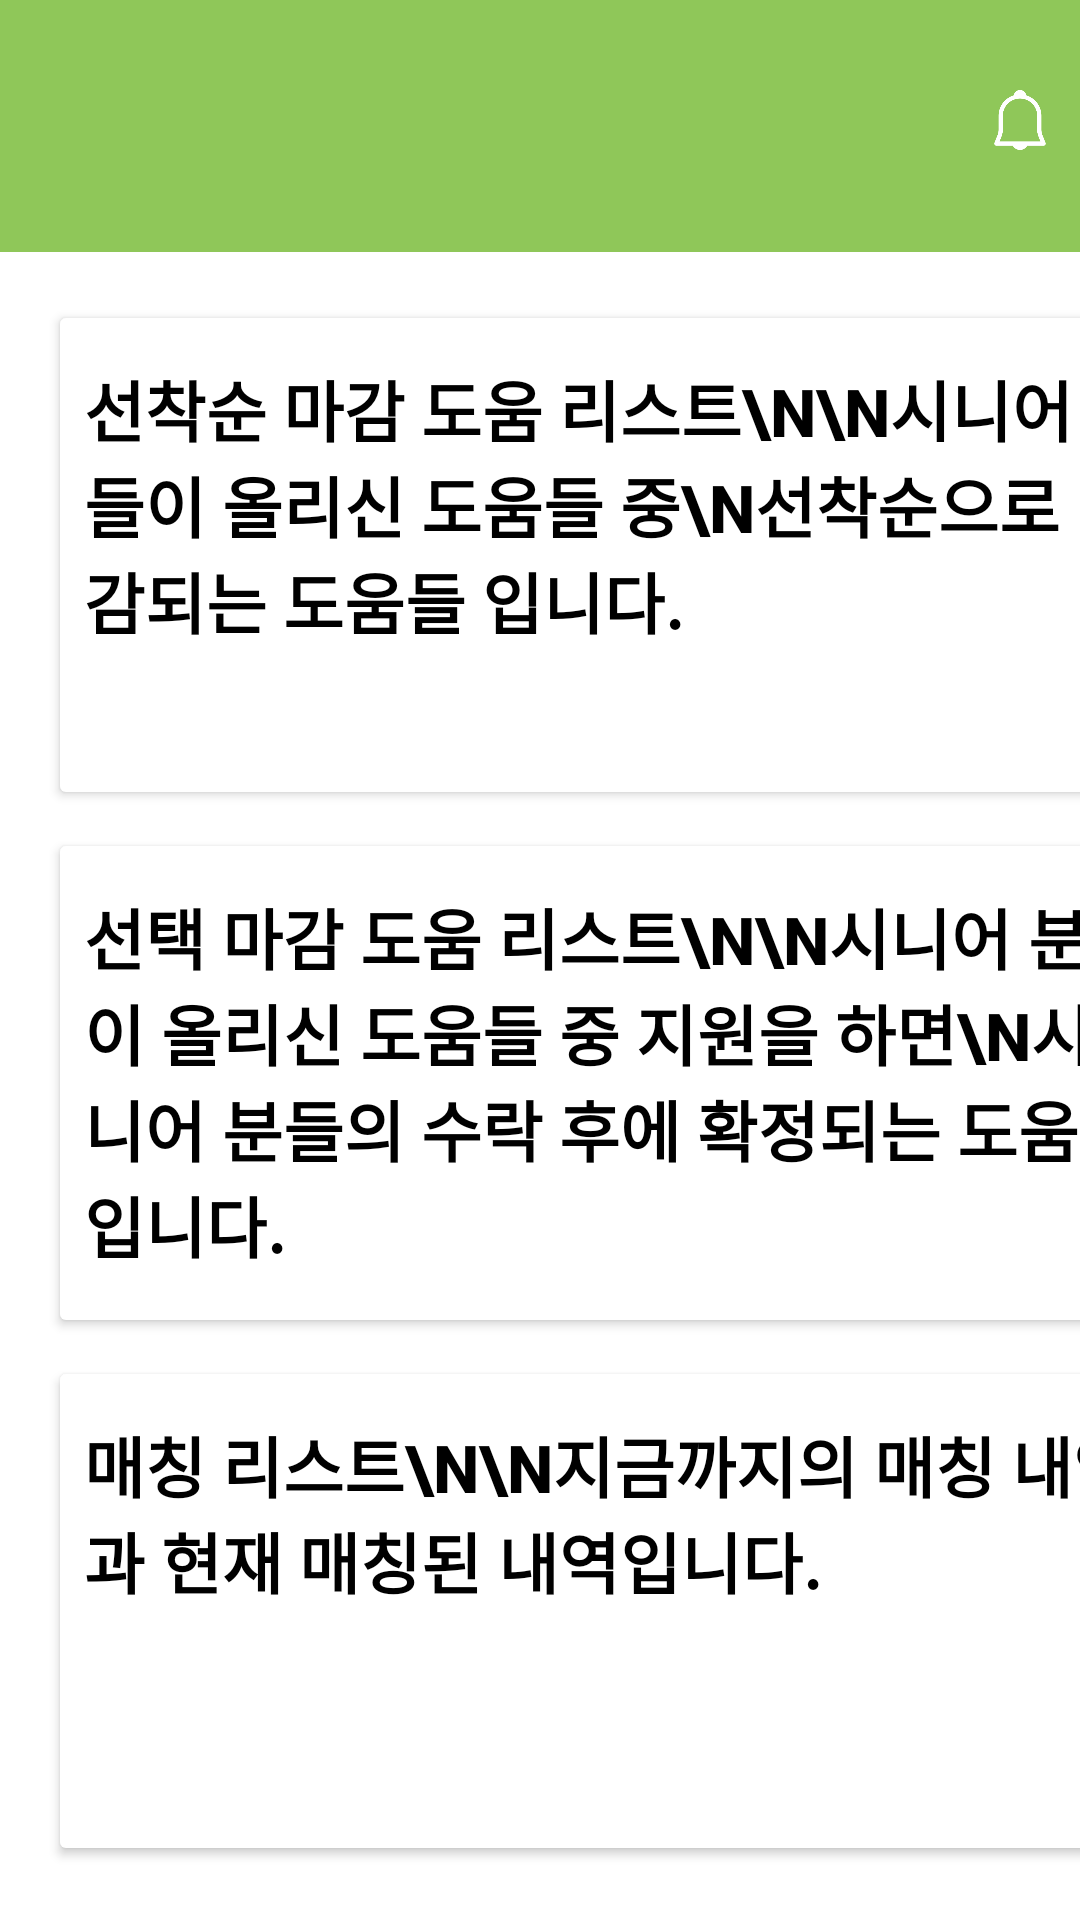

Named icons in this screenshot (1080×1920) and their centers, point (x, y):
alarmimg: point (1020, 120)
